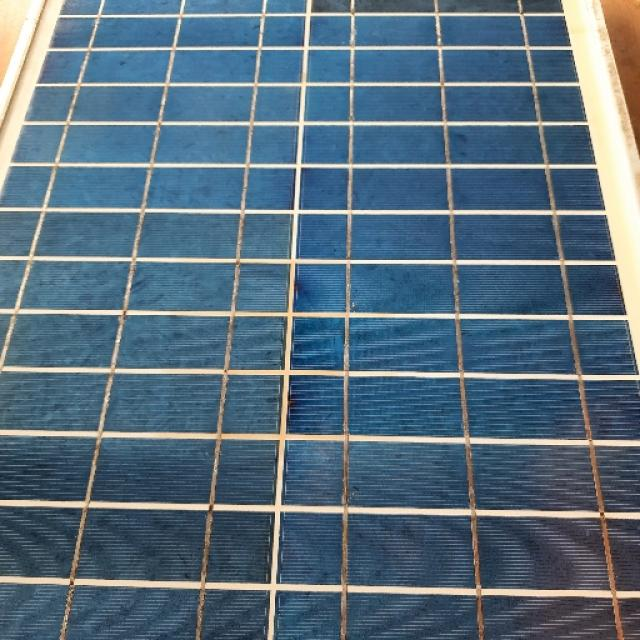Clean: (0, 36, 631, 640)
